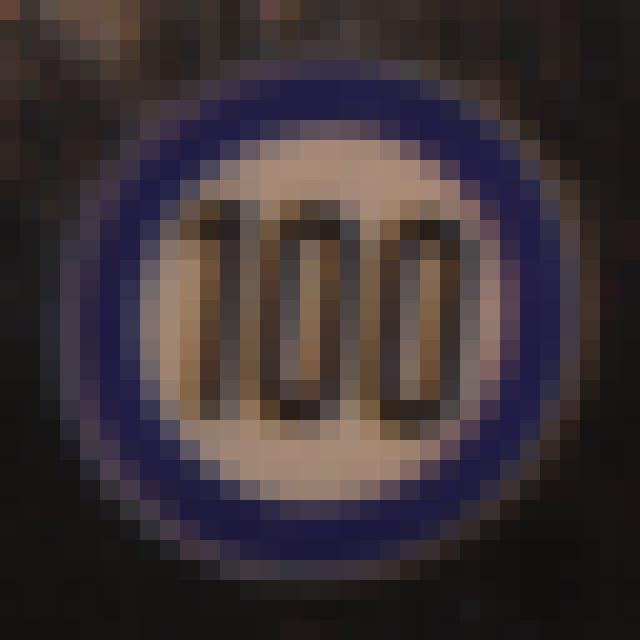SPEED LIMIT 100: (69, 79, 584, 568)
